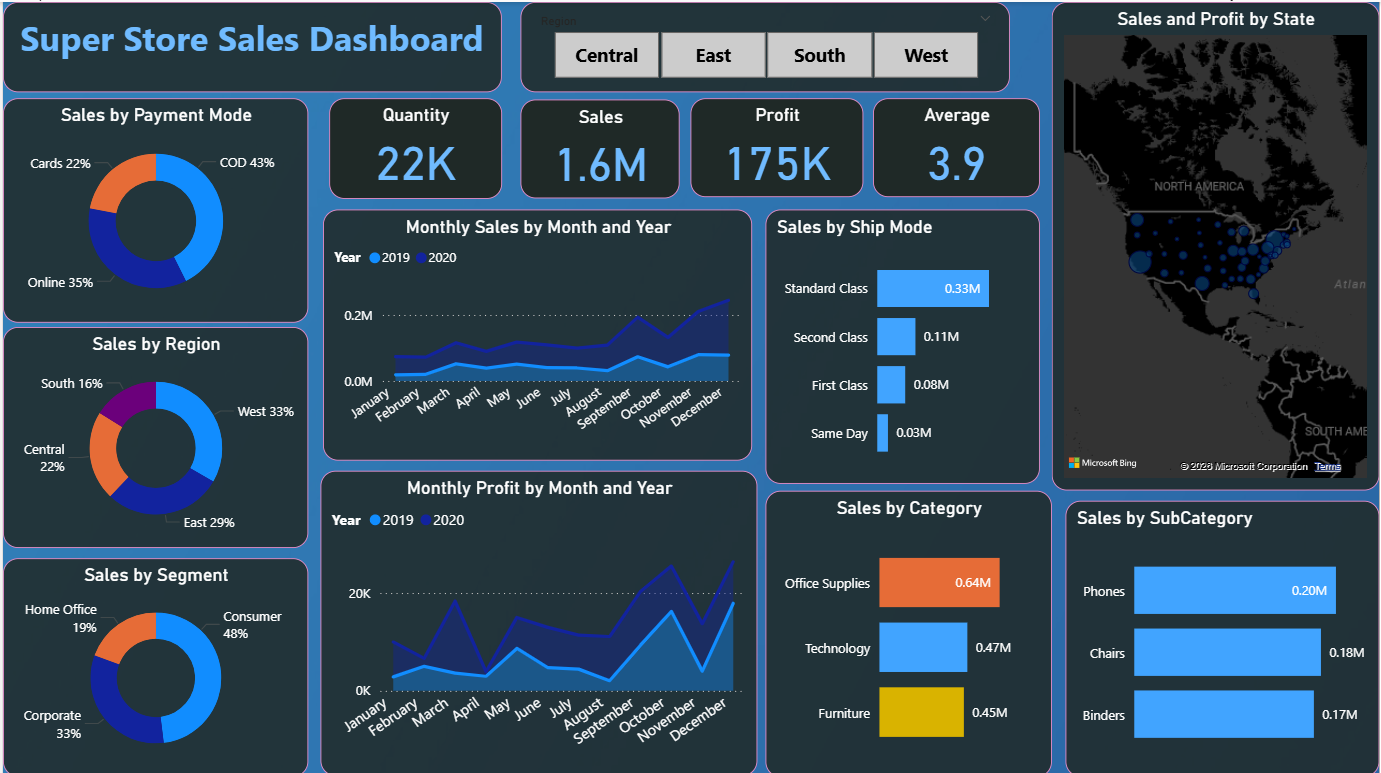

The dashboard page shown, as its layout file describes it:
{"tool":"powerbi","page":{"name":"Page 1","canvas":[1280,720],"ordinal":0},"visuals":[{"type":"clusteredBarChart","title":"Sales by Category","fields":{"Category":["SuperStore_Sales_Dataset.Category"],"Y":["Sum(SuperStore_Sales_Dataset.Sales)"]},"box":[709.4,454.2,266.2,266.2],"z":0},{"type":"clusteredBarChart","title":"Sales by SubCategory","fields":{"Category":["SuperStore_Sales_Dataset.Sub-Category"],"Y":["Sum(SuperStore_Sales_Dataset.Sales)"]},"box":[988,463.8,292.3,256.6],"z":1000},{"type":"clusteredBarChart","title":"Sales by Ship Mode","fields":{"Category":["SuperStore_Sales_Dataset.Ship Mode"],"Y":["Sum(SuperStore_Sales_Dataset.Sales)"]},"box":[709.4,193.5,255.2,255.2],"z":2000},{"type":"stackedAreaChart","title":"Monthly Sales by Month and Year","fields":{"Y":["Sum(SuperStore_Sales_Dataset.Sales)"],"Category":["SuperStore_Sales_Dataset.Order Date.Variation.Date Hierarchy.Month","SuperStore_Sales_Dataset.Order Date.Variation.Date Hierarchy.Day"],"Series":["SuperStore_Sales_Dataset.Order Date.Variation.Date Hierarchy.Year"]},"box":[297.8,193.5,399.3,233.3],"z":3000},{"type":"stackedAreaChart","title":"Monthly Profit by Month and Year","fields":{"Category":["SuperStore_Sales_Dataset.Order Date.Variation.Date Hierarchy.Month","SuperStore_Sales_Dataset.Order Date.Variation.Date Hierarchy.Day"],"Series":["SuperStore_Sales_Dataset.Order Date.Variation.Date Hierarchy.Year"],"Y":["Sum(SuperStore_Sales_Dataset.Profit)"]},"box":[295,436.4,406.2,284],"z":4000},{"type":"map","title":"Sales and Profit by State","fields":{"Category":["SuperStore_Sales_Dataset.State"],"Size":["Sum(SuperStore_Sales_Dataset.Sales)"]},"box":[975.6,0,304.6,454.2],"z":5000},{"type":"donutChart","title":"Sales by Segment","fields":{"Category":["SuperStore_Sales_Dataset.Segment"],"Y":["Sum(SuperStore_Sales_Dataset.Sales)"]},"box":[0,517.3,284,203.1],"z":6000},{"type":"donutChart","title":"Sales by Payment Mode","fields":{"Category":["SuperStore_Sales_Dataset.Payment Mode"],"Y":["Sum(SuperStore_Sales_Dataset.Sales)"]},"box":[0,89.2,284,208.6],"z":7000},{"type":"donutChart","title":"Sales by Region","fields":{"Category":["SuperStore_Sales_Dataset.Region"],"Y":["Sum(SuperStore_Sales_Dataset.Sales)"]},"box":[0,301.9,284,205.8],"z":8000},{"type":"slicer","fields":{"Values":["SuperStore_Sales_Dataset.Region"]},"box":[481.6,0,455.6,83.7],"z":8001},{"type":"textbox","box":[0,0,463.8,83.7],"z":8002},{"type":"card","title":"Sales","fields":{"Values":["Sum(SuperStore_Sales_Dataset.Sales)"]},"box":[481.6,90.6,148.2,91.9],"z":8003},{"type":"card","title":"Quantity","fields":{"Values":["Sum(SuperStore_Sales_Dataset.Quantity)"]},"box":[303.3,89.2,160.5,93.3],"z":8004},{"type":"card","title":"Profit","fields":{"Values":["Sum(SuperStore_Sales_Dataset.Profit)"]},"box":[639.5,89.2,160.5,91.9],"z":8005},{"type":"card","title":"Average","fields":{"Values":["Avg(SuperStore_Sales_Dataset.AvgDelivery)"]},"box":[809.6,89.2,155.1,91.9],"z":8006}]}

Visuals, with their boxes in screenshot pixels (x1, y1, x2, y2), scaled from the page's 1280x720 canvas onto the 1381x773 screenshot:
"Sales by Category" clusteredBarChart: x1=765, y1=488, x2=1053, y2=772
"Sales by SubCategory" clusteredBarChart: x1=1066, y1=498, x2=1380, y2=772
"Sales by Ship Mode" clusteredBarChart: x1=765, y1=208, x2=1041, y2=482
"Monthly Sales by Month and Year" stackedAreaChart: x1=321, y1=208, x2=752, y2=458
"Monthly Profit by Month and Year" stackedAreaChart: x1=318, y1=469, x2=757, y2=772
"Sales and Profit by State" map: x1=1053, y1=0, x2=1380, y2=488
"Sales by Segment" donutChart: x1=0, y1=555, x2=306, y2=772
"Sales by Payment Mode" donutChart: x1=0, y1=96, x2=306, y2=320
"Sales by Region" donutChart: x1=0, y1=324, x2=306, y2=545
slicer - SuperStore_Sales_Dataset.Region: x1=520, y1=0, x2=1011, y2=90
textbox: x1=0, y1=0, x2=500, y2=90
"Sales" card: x1=520, y1=97, x2=679, y2=196
"Quantity" card: x1=327, y1=96, x2=500, y2=196
"Profit" card: x1=690, y1=96, x2=863, y2=194
"Average" card: x1=873, y1=96, x2=1041, y2=194
